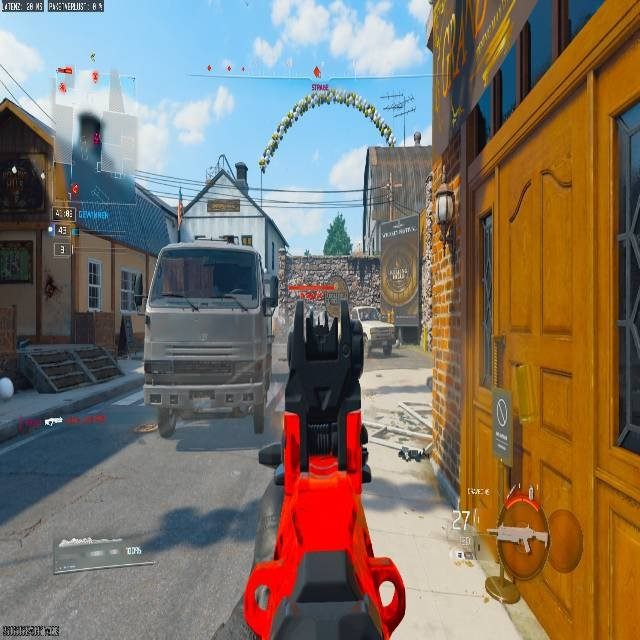player: (412, 129, 421, 145)
